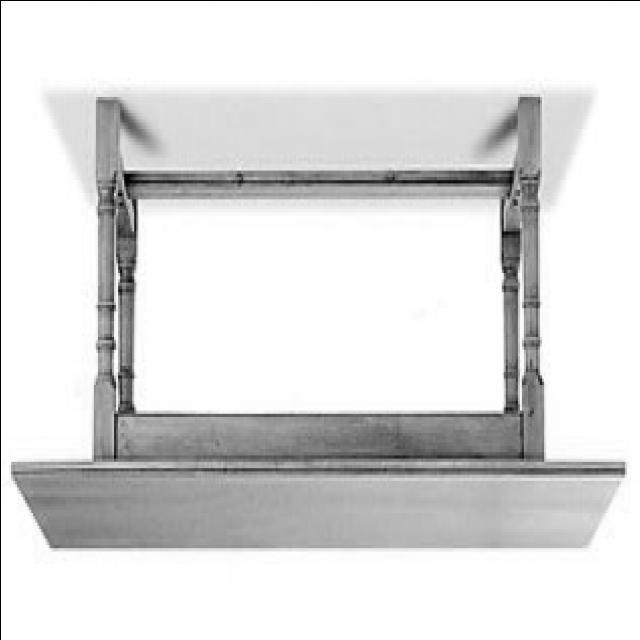table: (14, 92, 624, 552)
